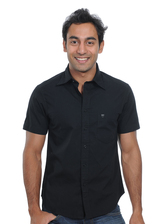clothoes: (21, 62, 143, 219)
